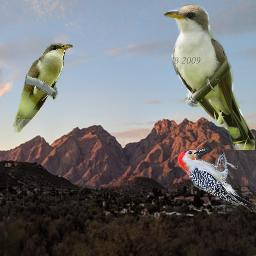Cuckoo: (163, 3, 255, 150), (12, 43, 73, 133)
Woodpecker: (178, 148, 256, 212)
